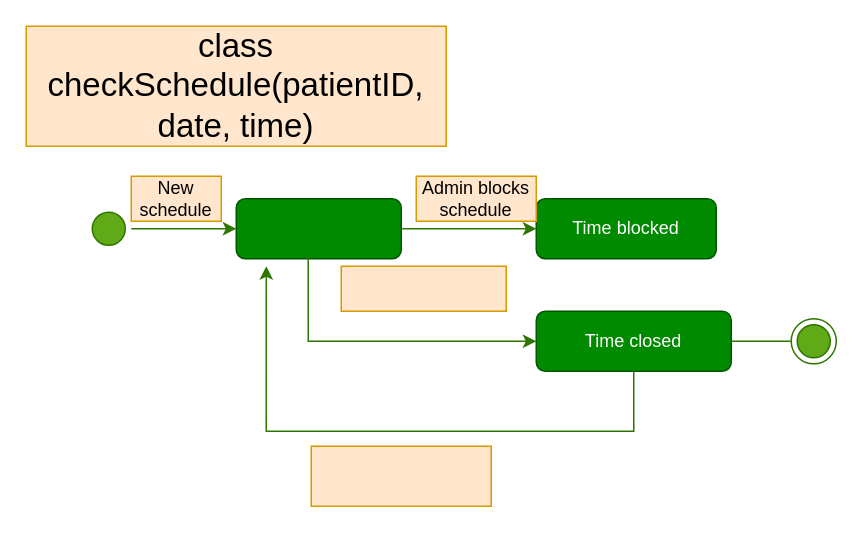
This 863x533 diagram has some shape labels left out. The shapes that lost their labels are listed below. From the top down, each one's box as (x1, y1, x2, y2) in pixels, then its label:
(235, 197, 401, 259): Time open
(340, 265, 506, 311): Appointment booked
(310, 445, 491, 506): Appointment Cancelled
